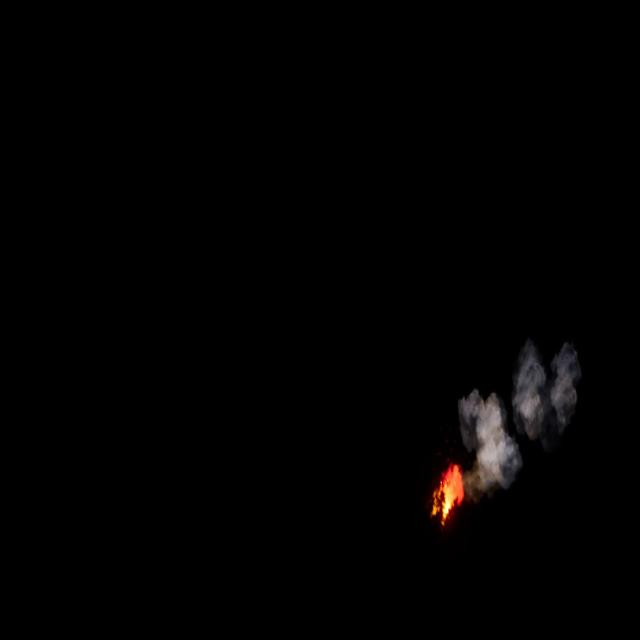fire: (431, 467, 465, 527)
smoke: (460, 340, 578, 498)
